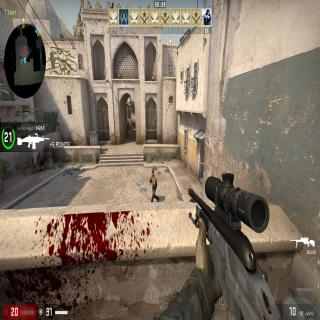T-Body: (149, 169, 159, 204)
T-Head: (152, 169, 154, 176)
